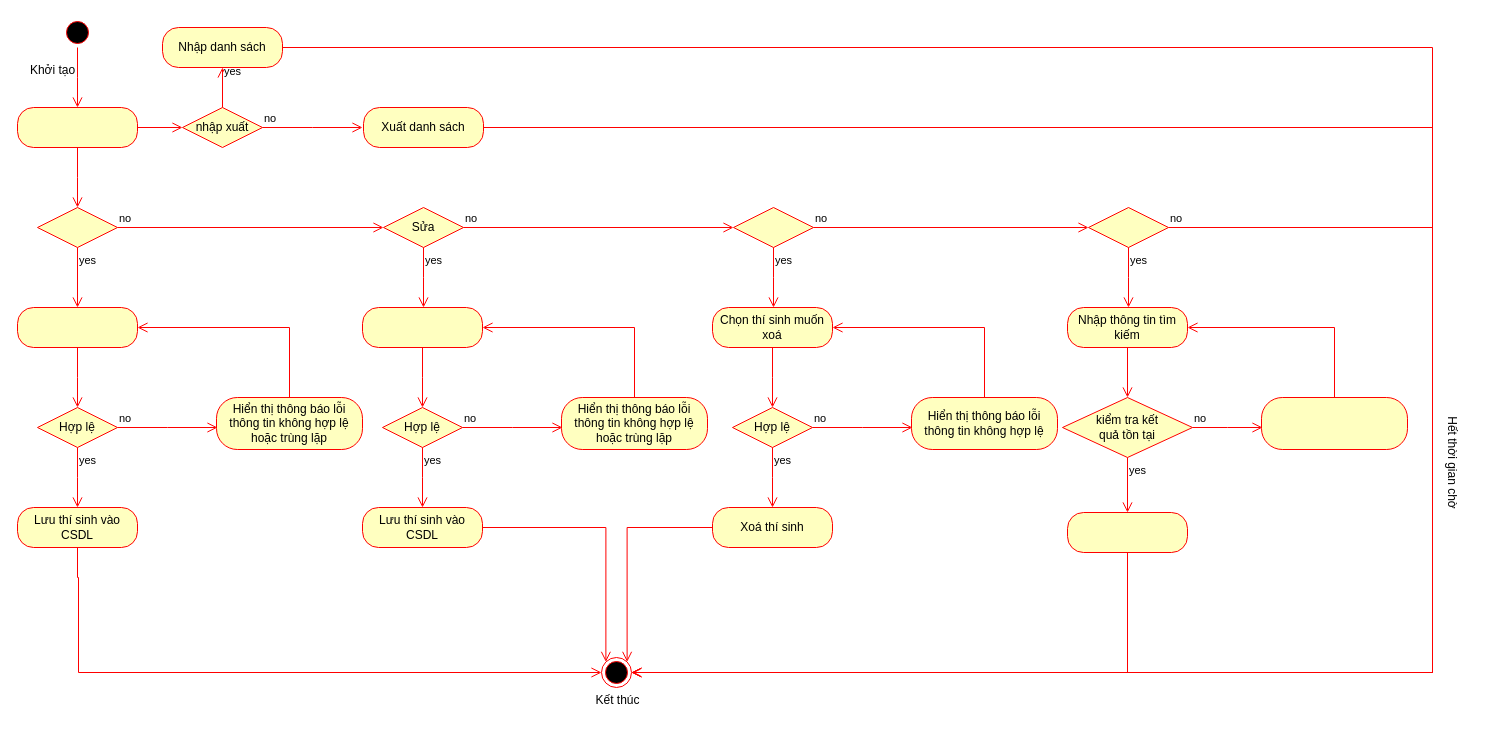
Some shapes in this 1485 by 733 pixel diagram are drawn without their labels. The shapes that lost their labels are listed below. From the top down, each one's centre as x and y in pixels, then its label:
[77,127]: danh sách thí sinh
[77,227]: Thêm
[773,227]: Xoá
[1128,227]: Tìm kiếm
[77,327]: Nhập thông tin thí sinh
[422,327]: Sửa đổi thông tin thí sinh
[1334,423]: Hiển thị thông báo không có kết quả
[1127,532]: Hiển thị danh sách kết quả
